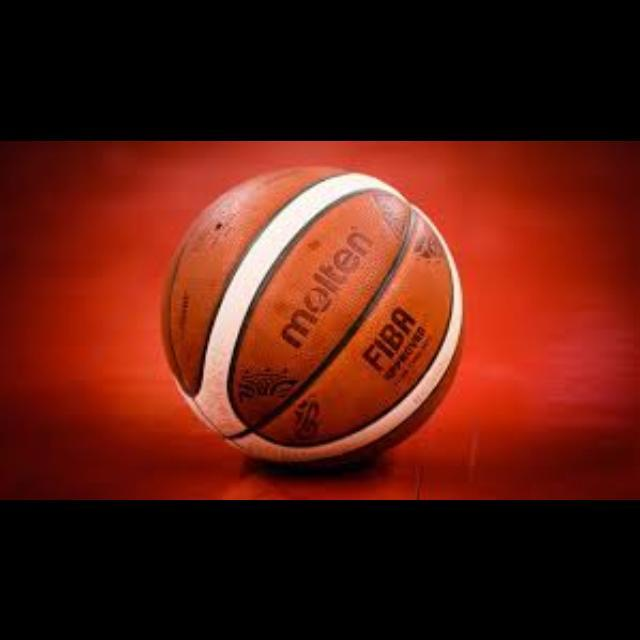basketball: (162, 168, 464, 464)
